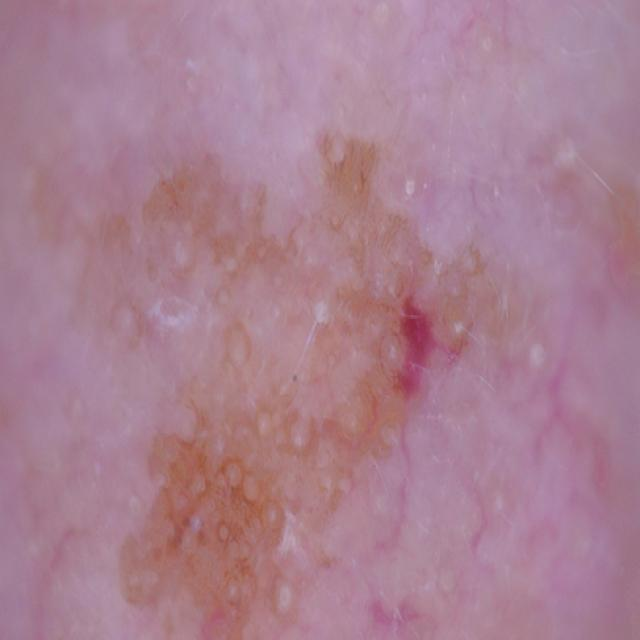Keratosis: (71, 93, 639, 640)
